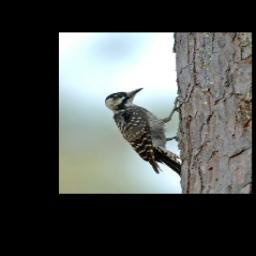Woodpecker: (103, 87, 190, 179)
